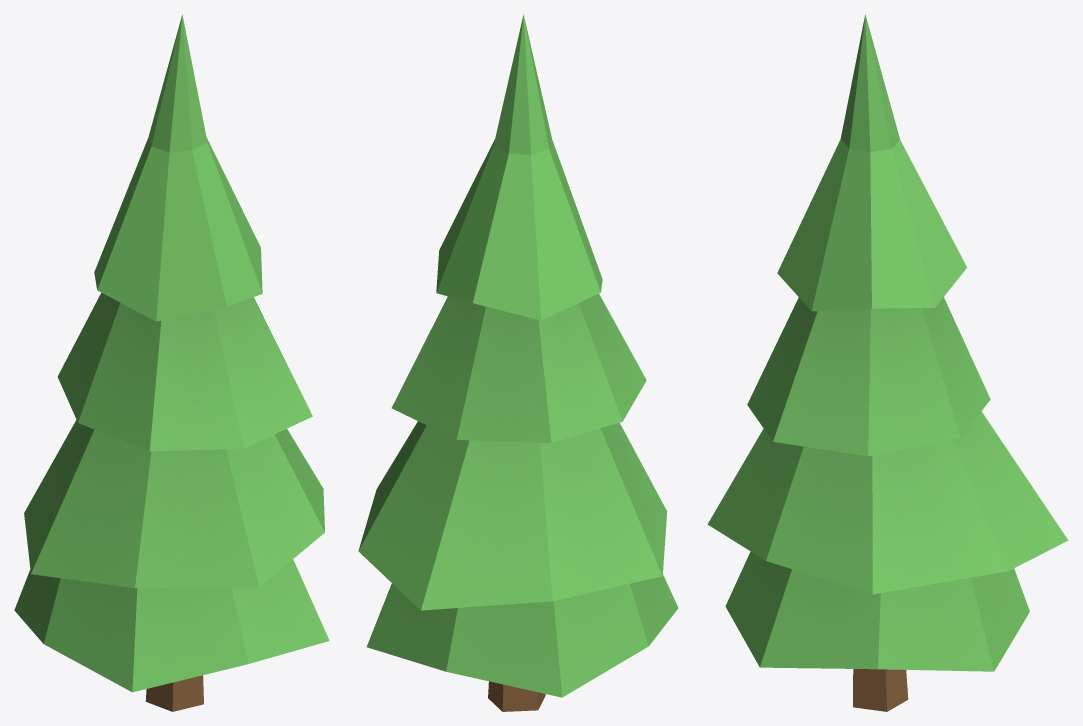
Rendered from Fir_Tree_OneSided_m_01.fbx.
3 renders of one model, left to right at view 1: azimuth 30°, elevation 25°; view 2: azimuth 150°, elevation 25°; view 3: azimuth 270°, elevation 25°, orthographic.
Parts seen in each view (by area): view 1: Fir_Tree_OneSided_m_01; view 2: Fir_Tree_OneSided_m_01; view 3: Fir_Tree_OneSided_m_01.
Boxes of the visible parts, x1,y1,x2,y2 form: Fir_Tree_OneSided_m_01: (14,14,329,711); Fir_Tree_OneSided_m_01: (358,15,678,711); Fir_Tree_OneSided_m_01: (707,15,1068,711).
Size of the model in its own units: 298 by 675 by 322.
